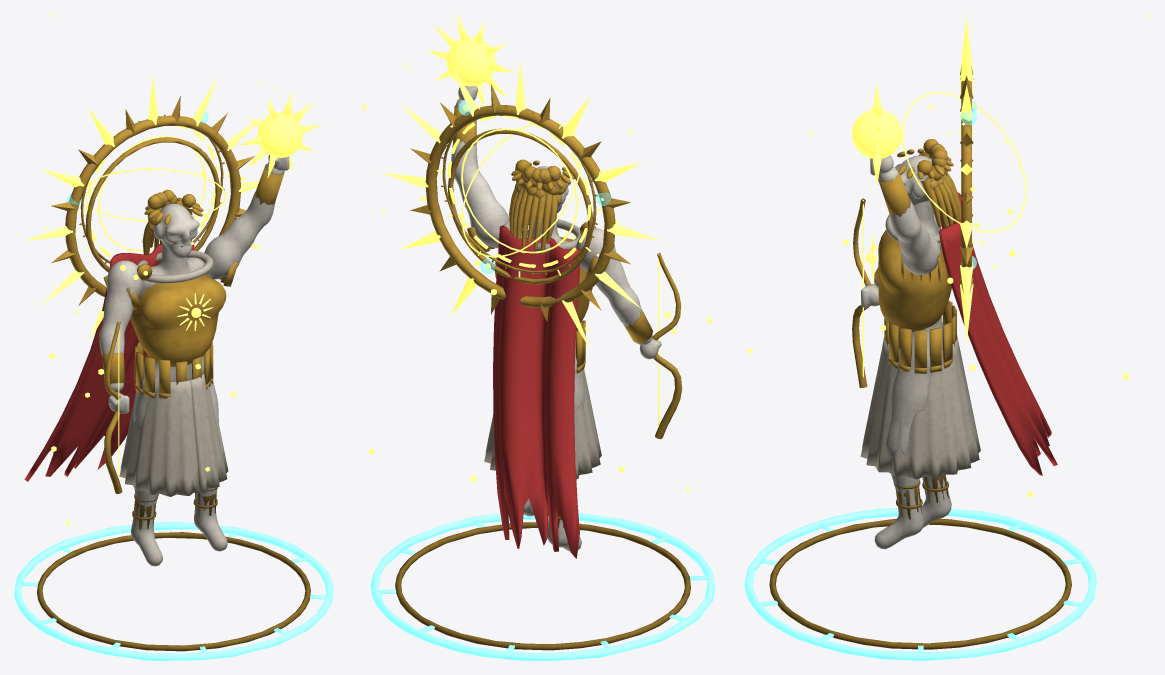
The model's file is apollon.glb.
3 renders of one model, left to right at view 1: azimuth 30°, elevation 25°; view 2: azimuth 150°, elevation 25°; view 3: azimuth 270°, elevation 25°, orthographic. The views are drawn at different scales.
Parts seen in each view (by area): view 1: body, sun.001, team, ether; view 2: body, team, sun.001, ether, ether_veil; view 3: body, team, ether, sun.001.
Part boxes in pixels (x1,y1,x2,y2): body: (37, 96, 310, 651); sun.001: (25, 14, 320, 524); team: (24, 244, 194, 481); ether: (14, 521, 333, 660); body: (395, 84, 690, 650); team: (493, 225, 580, 558); sun.001: (362, 15, 712, 491); ether: (370, 512, 715, 660); ether_veil: (458, 100, 611, 274); body: (769, 66, 1071, 649); team: (939, 192, 1057, 475); ether: (744, 508, 1096, 660); sun.001: (747, 14, 1149, 497).
Bounding box in the file's own units: 2.03 × 3.52 × 2.3.
Materials: 5 (1 with a texture image).
